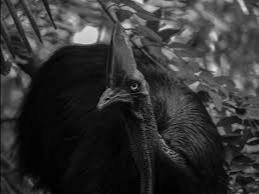Non_Gorille: (39, 22, 213, 188)
